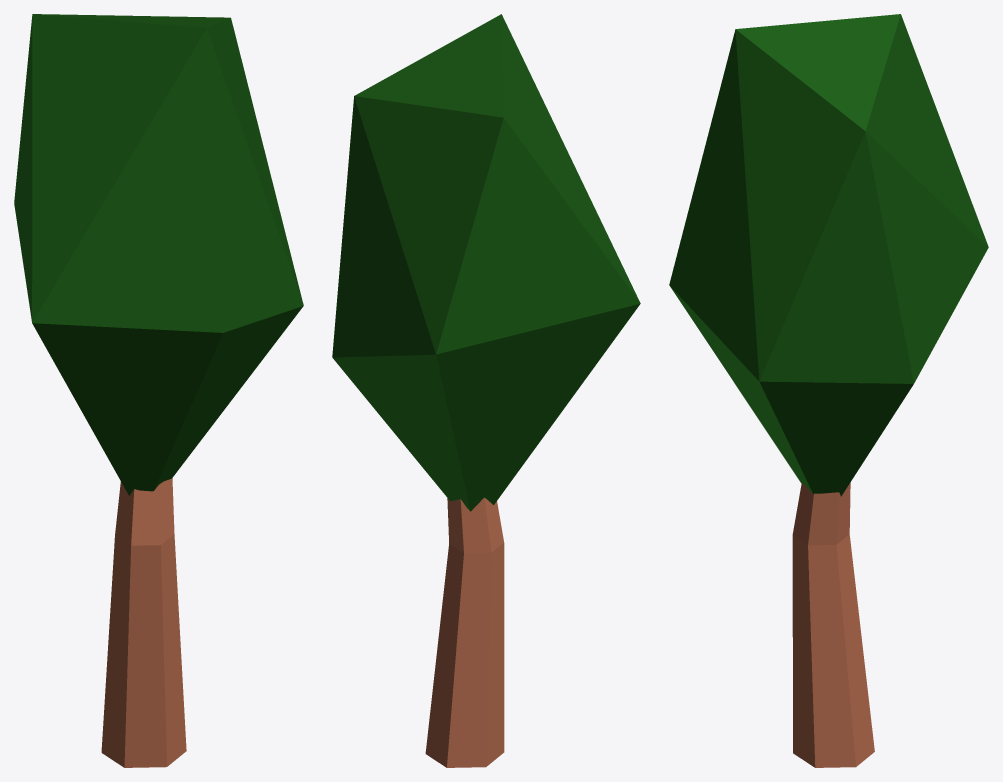
File: Tree_08_summer_vc.fbx
The picture shows the model from 3 angles, left to right: view 1: azimuth 30°, elevation 25°; view 2: azimuth 150°, elevation 25°; view 3: azimuth 270°, elevation 25°; orthographic projection. The views are drawn at different scales.
Visible parts, largest first — view 1: Tree_08_summer_vc; view 2: Tree_08_summer_vc; view 3: Tree_08_summer_vc.
Boxes of the visible parts, left/top/right/bottom form: Tree_08_summer_vc: left=14, top=14, right=303, bottom=767; Tree_08_summer_vc: left=332, top=14, right=640, bottom=767; Tree_08_summer_vc: left=669, top=14, right=988, bottom=767.
Bounding box in the file's own units: 2.43 × 6.47 × 2.57.
